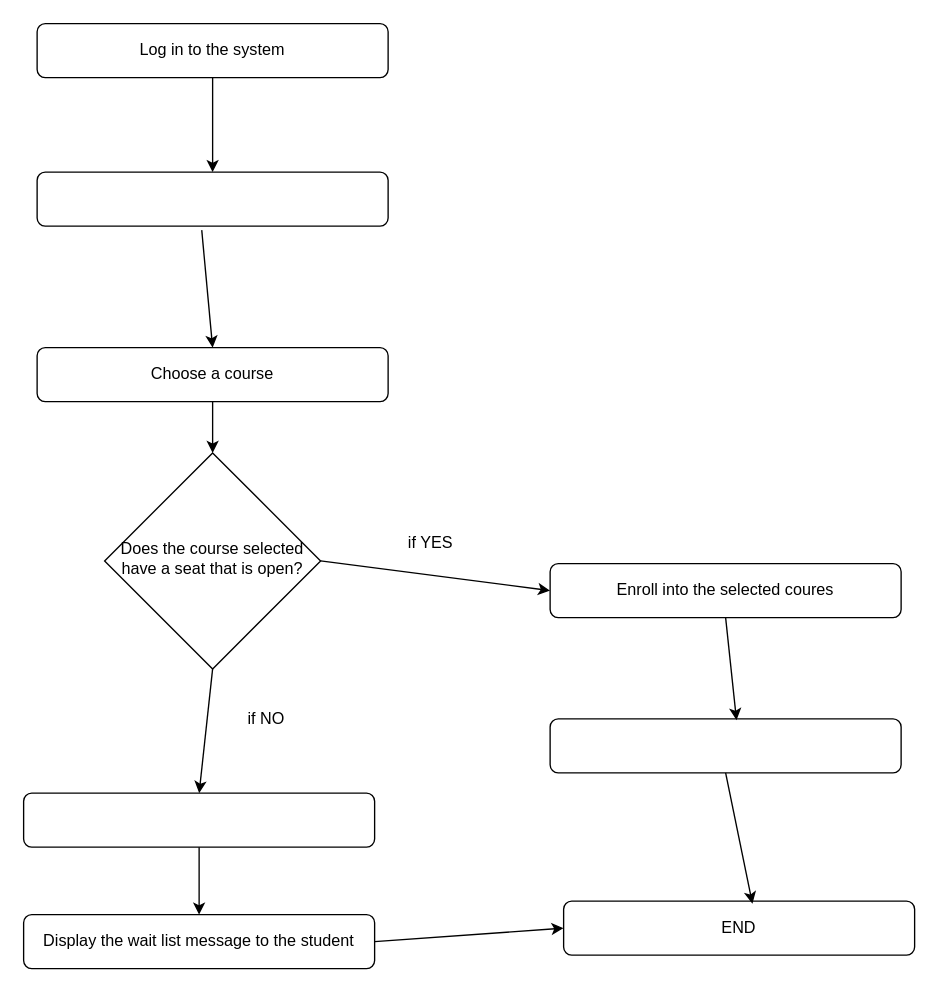
Image size: 938x992. Some labels were removed from this diagram. Here are the shapes that lost their labels. From the top down, the box of each, then its label:
(36, 171, 388, 226): search through available courses
(549, 718, 901, 773): Confirm enrolment
(22, 792, 375, 847): Join the wait list
